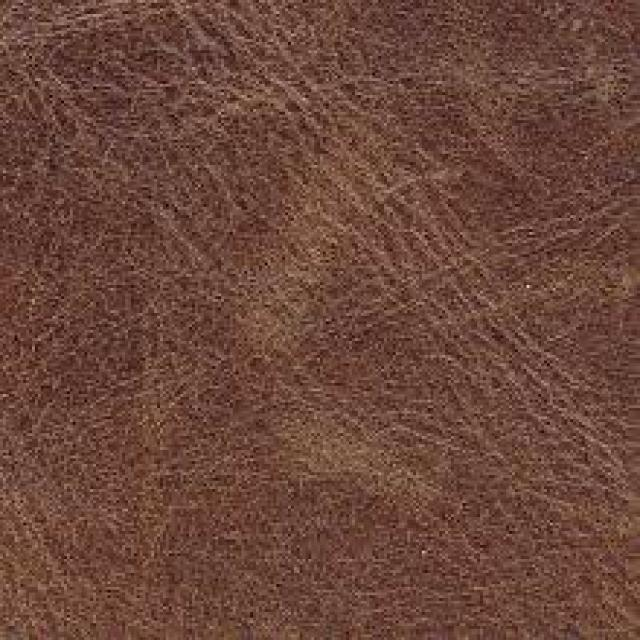Bacterial Injury: (252, 113, 374, 360), (281, 401, 450, 529)
